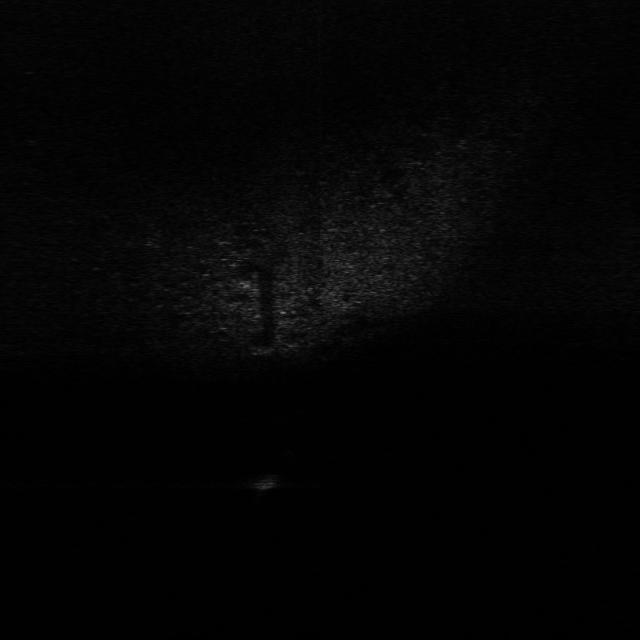cylinder: (250, 472, 282, 494)
